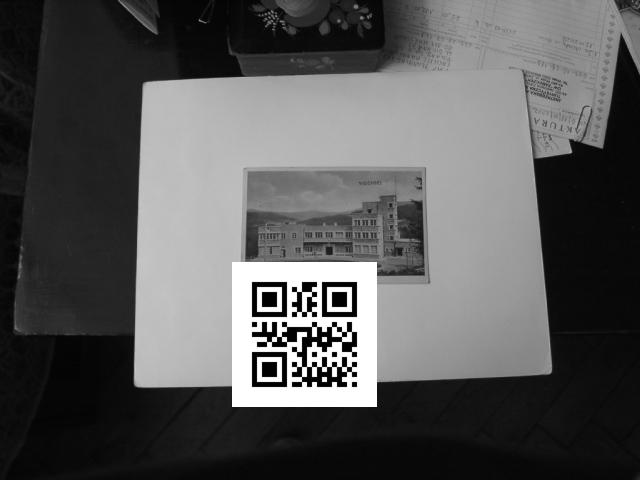qr_code: (236, 265, 375, 403)
